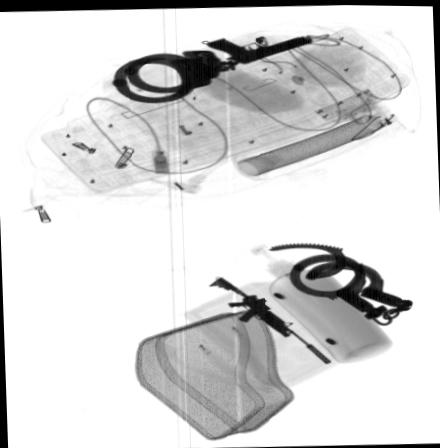Gun: (202, 274, 341, 366), (202, 35, 313, 63)
HandCuffs: (266, 242, 417, 327), (114, 50, 237, 103)
